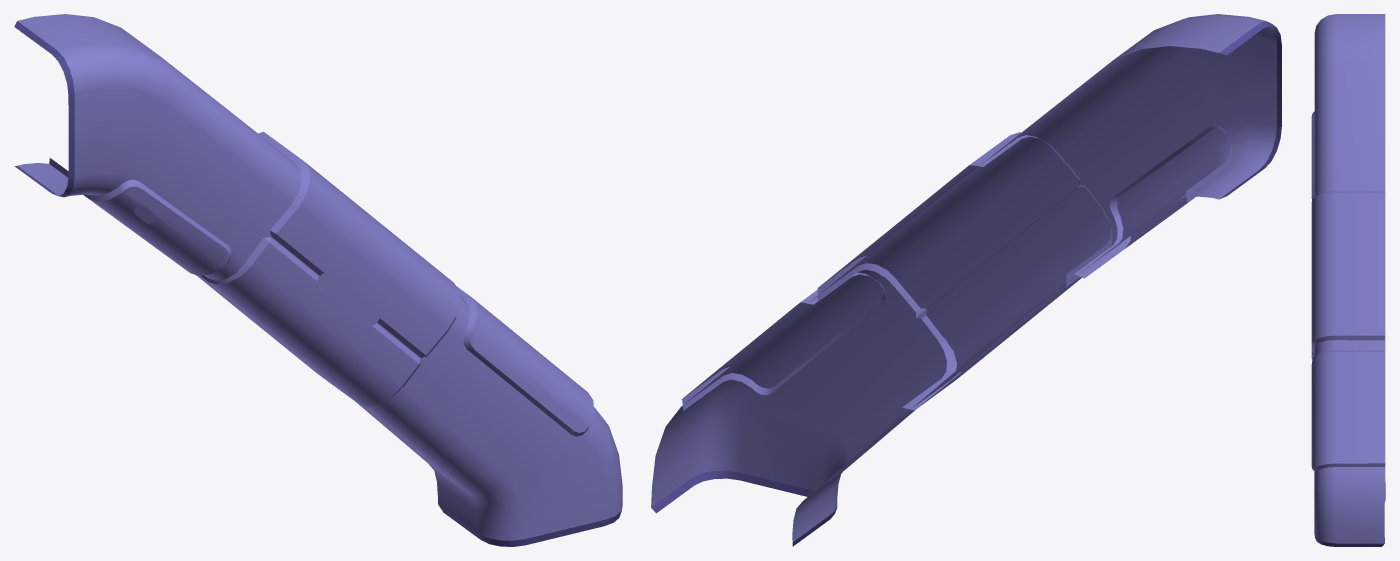
Rendered from wall_cornerMedium2.glb.
The picture shows the model from 3 angles, left to right: view 1: azimuth 30°, elevation 25°; view 2: azimuth 150°, elevation 25°; view 3: azimuth 270°, elevation 25°; orthographic projection. The views are drawn at different scales.
Parts seen in each view (by area): view 1: Wall_cornerMedium.001; view 2: Wall_cornerMedium.001; view 3: Wall_cornerMedium.001.
Part boxes in pixels (left/top/right/bottom): Wall_cornerMedium.001: left=14, top=14, right=622, bottom=546; Wall_cornerMedium.001: left=651, top=14, right=1281, bottom=546; Wall_cornerMedium.001: left=1311, top=14, right=1385, bottom=546.
Size of the model in its own units: 1.14 by 1.14 by 0.2132.
Materials: 1 (1 with a texture image).
